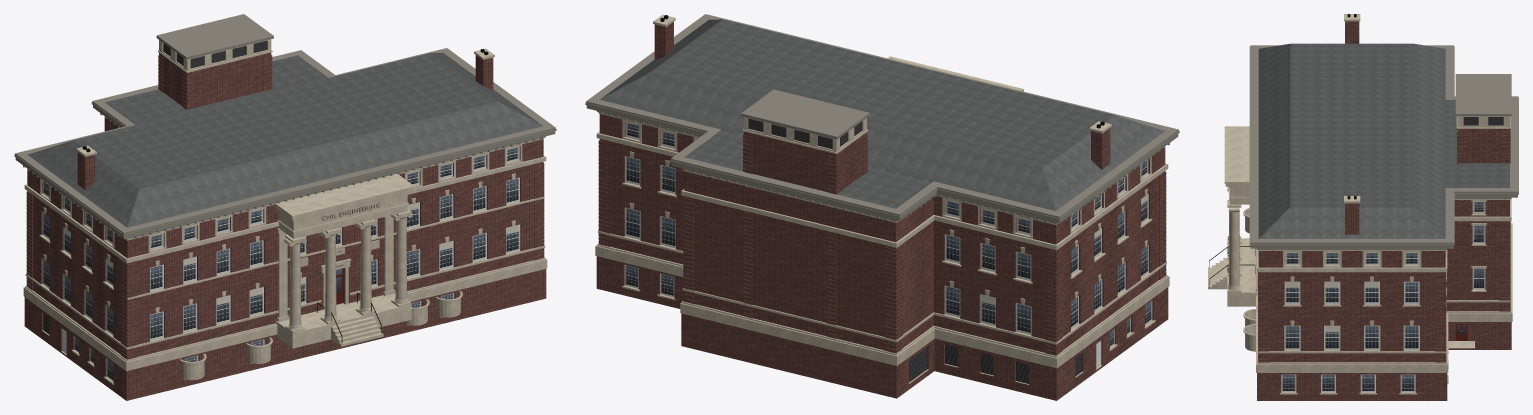
Rendered from troy_building.glb.
3 views of the same model, side by side, from view 1: azimuth 30°, elevation 25°; view 2: azimuth 150°, elevation 25°; view 3: azimuth 270°, elevation 25° (orthographic). The views are drawn at different scales.
Parts seen in each view (by area): view 1: TroyBuilding; view 2: TroyBuilding; view 3: TroyBuilding.
Boxes of the visible parts, x1,y1,x2,y2 form: TroyBuilding: (14, 14, 556, 400); TroyBuilding: (585, 14, 1179, 400); TroyBuilding: (1208, 14, 1518, 400).
Bounding box in the file's own units: 40.69 × 20.25 × 27.02.
Materials: 7 (4 with a texture image).
